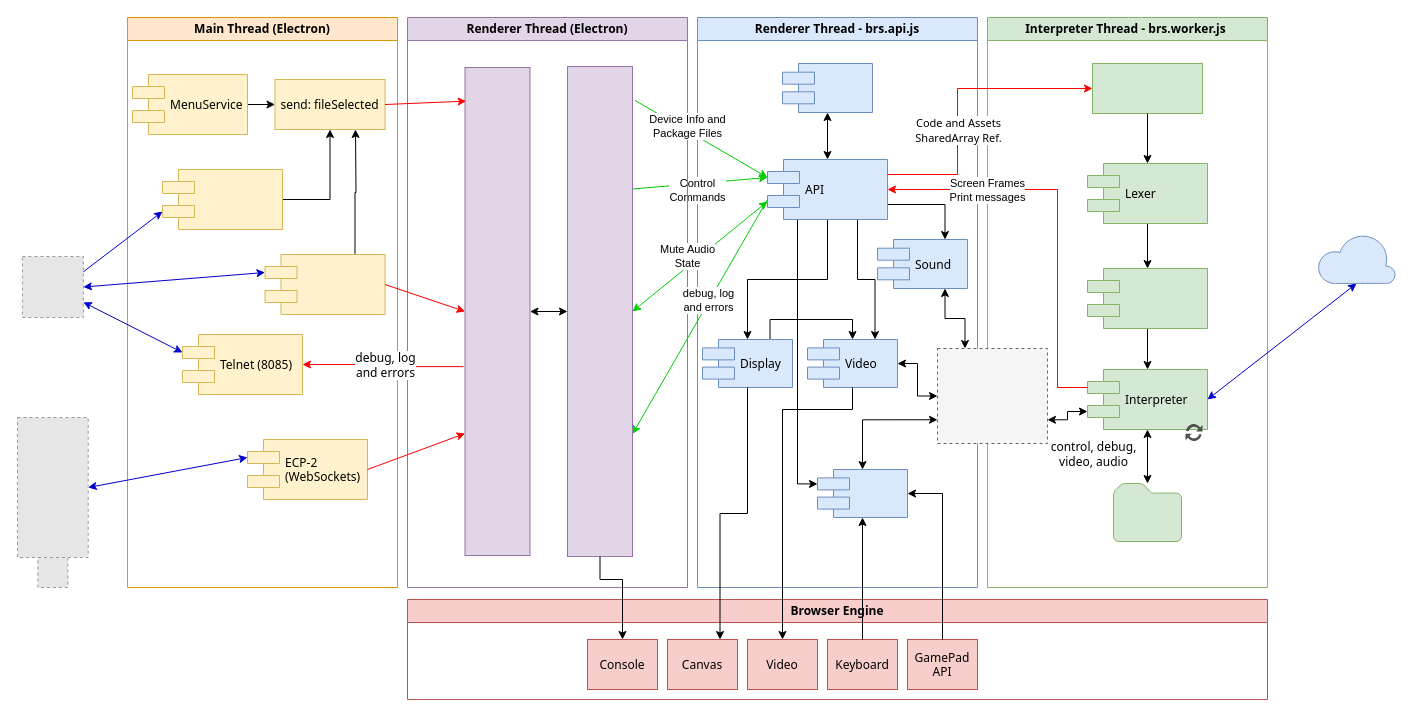
Some shapes in this 1413 by 717 pixel diagram are drawn without their labels. Grey dashed boxes stand in for pictures. Each missing label, with the centre of its shape:
"app + statusbar" goes at (x=599, y=311).
"call: run" goes at (x=1147, y=88).
"Control" goes at (x=862, y=493).
"ECP (8060)" goes at (x=324, y=284).
"Memory File System pkg:/ tmp:/ cachefs:/" goes at (x=1147, y=512).
"Package" goes at (x=827, y=87).
"Parser" goes at (x=1147, y=298).
"preload" goes at (x=497, y=311).
"SharedArrayBuffer Control Events Video/Audio State MicroDebugger" goes at (x=992, y=396).
"Web (80)" goes at (x=222, y=199).
